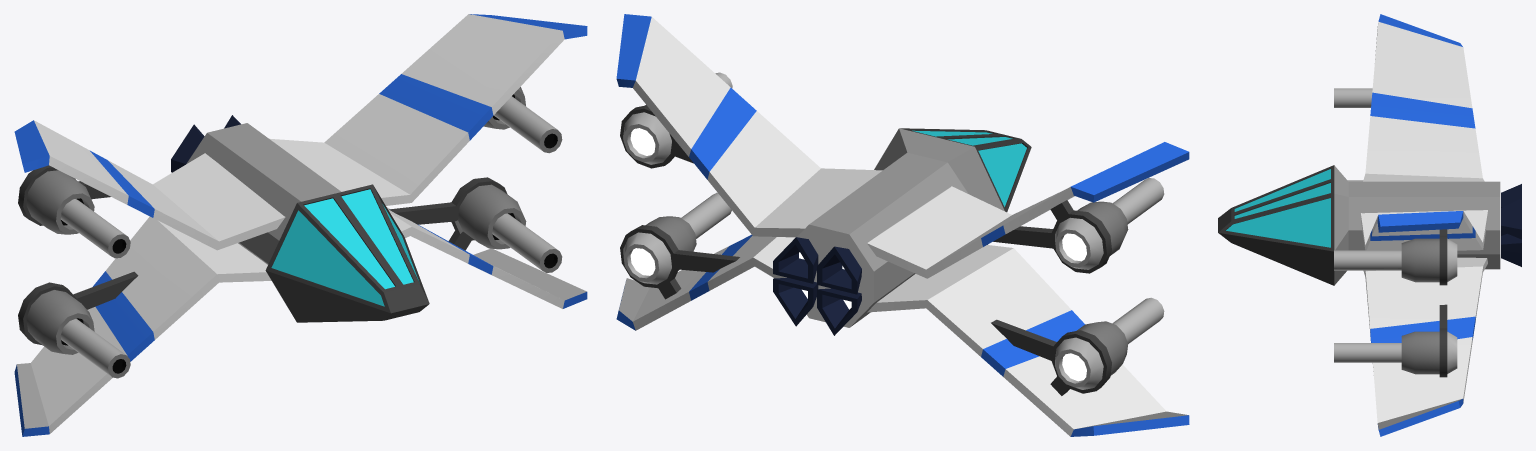
The model's file is raptor_spaceship_low_poly.glb.
3 renders of one model, left to right at view 1: azimuth 30°, elevation 25°; view 2: azimuth 150°, elevation 25°; view 3: azimuth 270°, elevation 25°, orthographic. The views are drawn at different scales.
Visible parts, largest first — view 1: Wings, Main Body, Canon, Turbines; view 2: Wings, Canon, Main Body, Turbines; view 3: Wings, Main Body, Canon, Turbines.
Part boxes in pixels (box(x1,y1,x2,y2)): Wings: box(14, 14, 587, 436); Main Body: box(186, 123, 429, 322); Canon: box(18, 87, 562, 378); Turbines: box(171, 115, 240, 172); Wings: box(616, 14, 1189, 436); Canon: box(620, 72, 1164, 395); Main Body: box(784, 128, 1031, 327); Turbines: box(773, 237, 861, 335); Wings: box(1360, 14, 1487, 436); Main Body: box(1218, 165, 1500, 285); Canon: box(1334, 88, 1457, 377); Turbines: box(1501, 184, 1521, 266).
Size of the model in its own units: 12.28 by 5.78 by 7.42.
